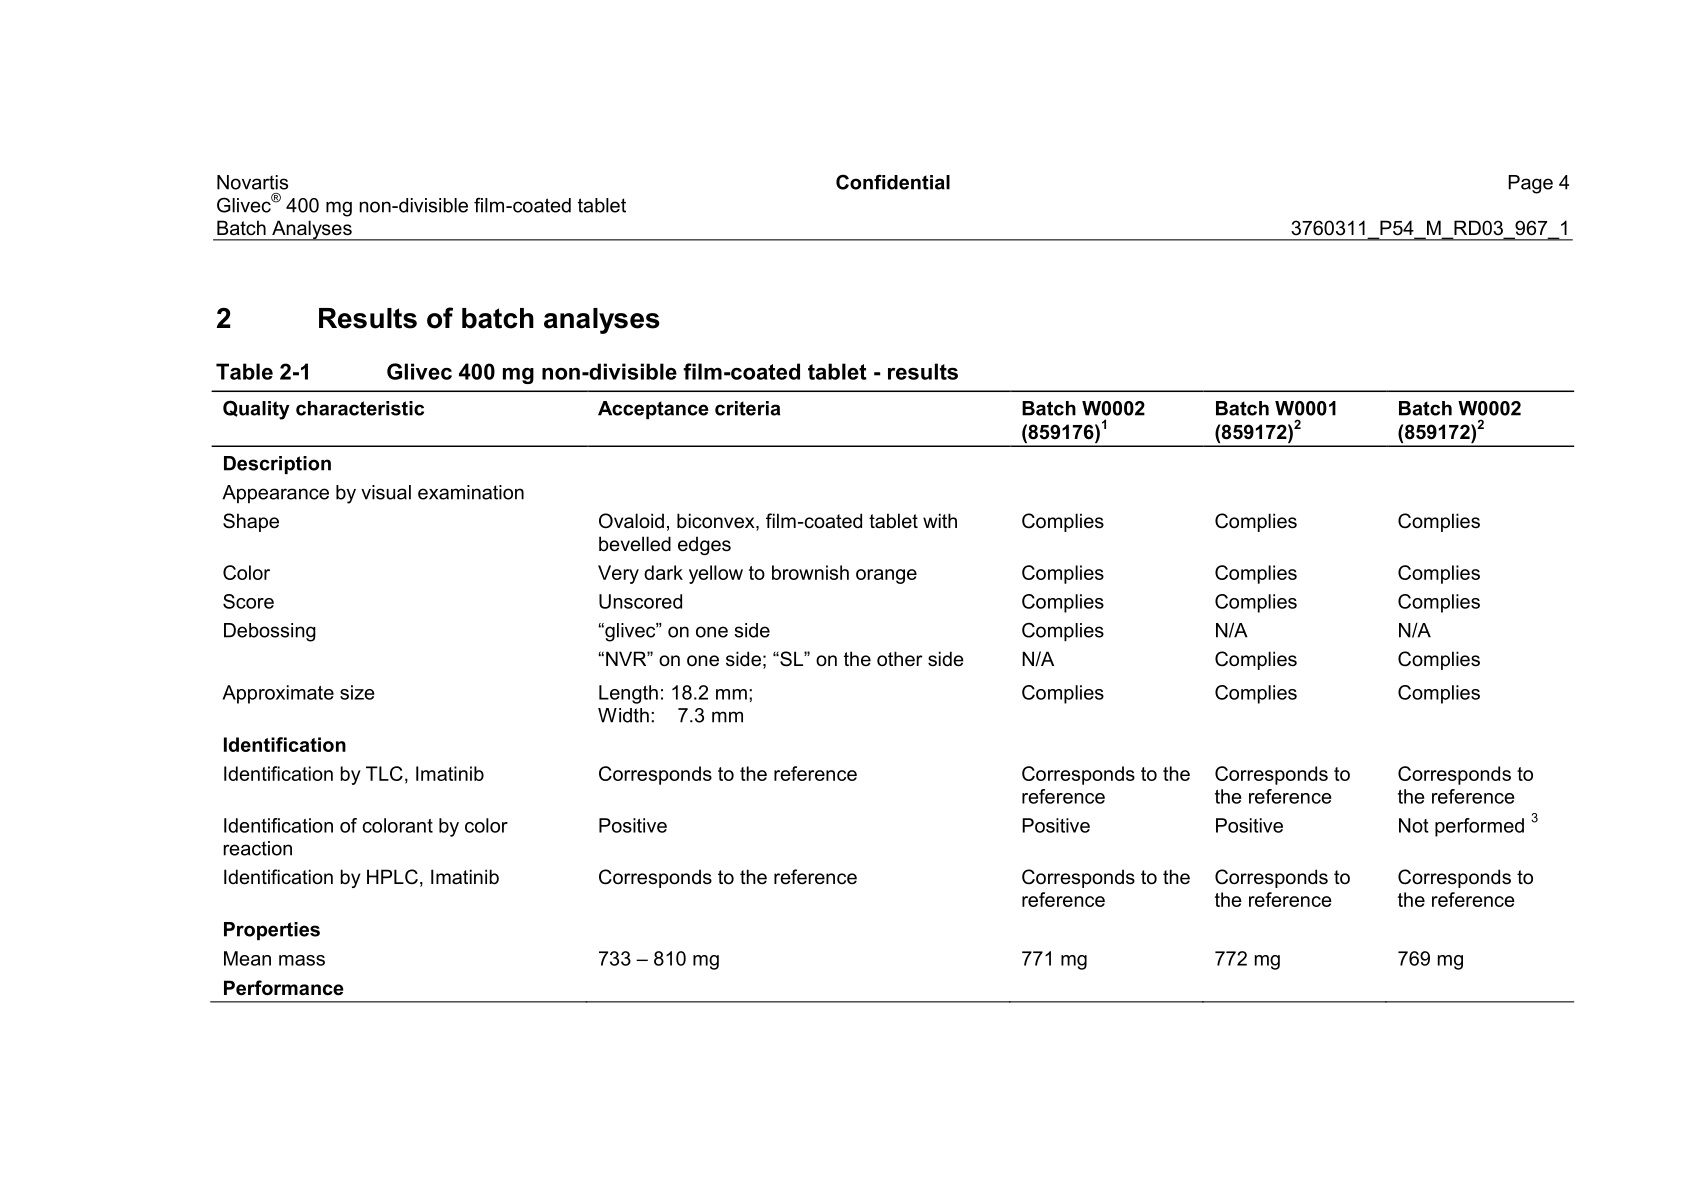partial_lined: (210, 388, 1577, 1005)
